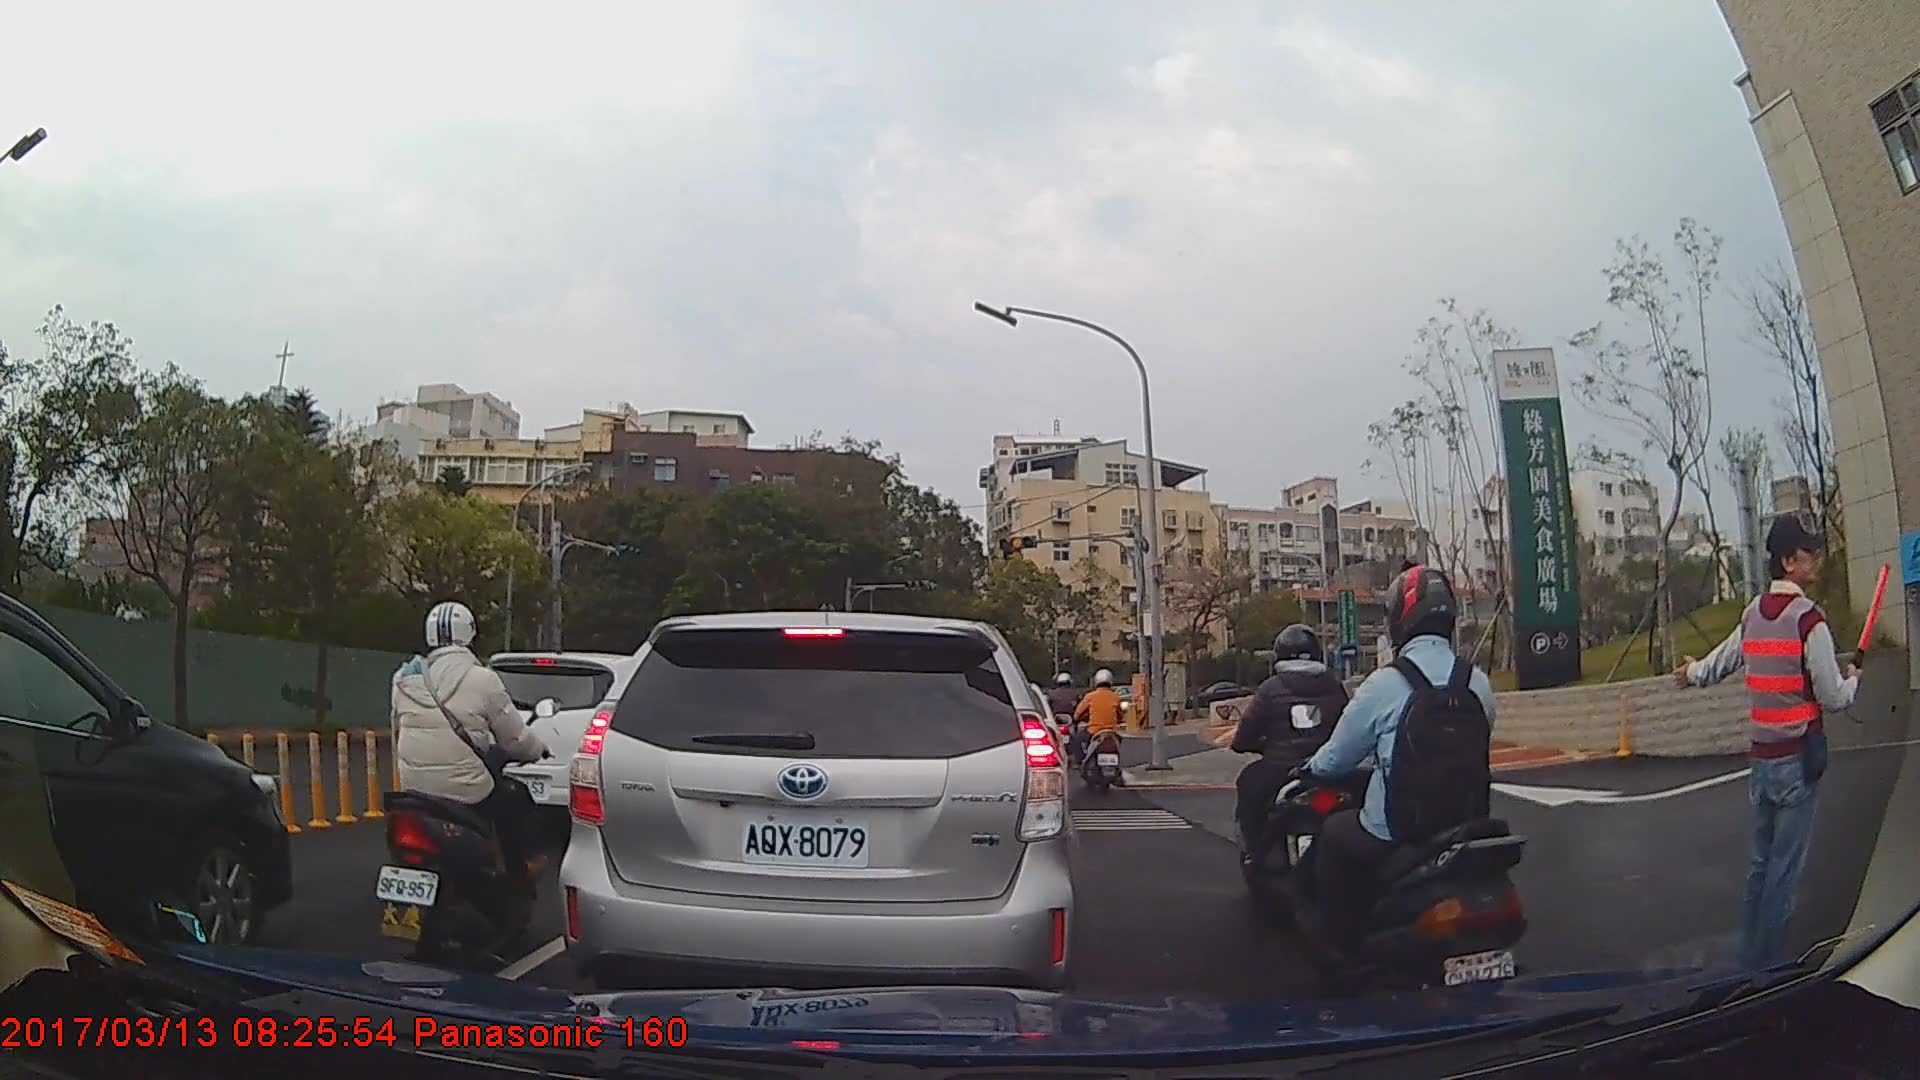pedestrian: (1676, 515, 1879, 989)
rider: (1299, 559, 1534, 1014), (371, 600, 554, 970), (1228, 625, 1352, 918), (1075, 667, 1126, 790), (1044, 671, 1083, 766)
vehicle: (555, 610, 1076, 997), (0, 588, 292, 965), (1186, 678, 1256, 715)
